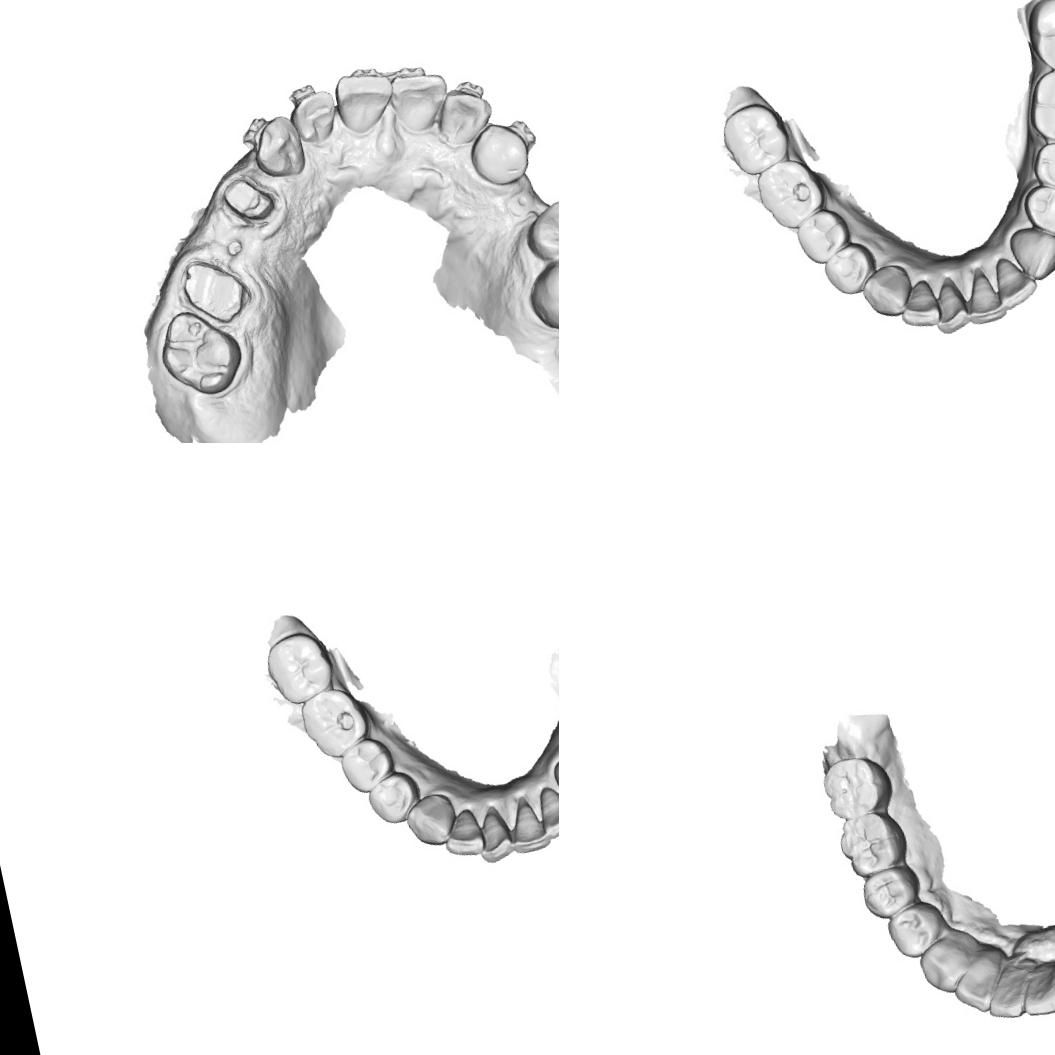canine: (912, 922, 987, 1000), (462, 116, 536, 194), (244, 110, 312, 186), (856, 258, 920, 323), (401, 787, 464, 852), (1004, 219, 1055, 286)
crown: (172, 248, 255, 334), (216, 168, 282, 230)
incisor: (328, 65, 403, 139), (384, 64, 458, 138), (945, 946, 1016, 1019), (430, 81, 500, 150), (284, 82, 345, 150), (978, 961, 1034, 1028), (960, 262, 1012, 328), (504, 792, 556, 858), (926, 275, 979, 338), (470, 804, 523, 867), (990, 250, 1041, 314), (892, 274, 946, 334), (436, 803, 490, 863), (1013, 950, 1055, 1022), (534, 779, 559, 843)
molar: (151, 300, 250, 405), (715, 94, 795, 182), (259, 623, 339, 710), (751, 153, 832, 236), (295, 682, 376, 764), (831, 802, 912, 881), (817, 749, 899, 824), (519, 241, 559, 337), (1017, 60, 1055, 154), (1019, 0, 1055, 80)
premolar: (881, 892, 955, 964), (855, 860, 928, 924), (791, 204, 857, 270), (335, 732, 401, 798), (818, 236, 883, 300), (362, 766, 427, 830), (518, 192, 559, 263), (1017, 176, 1055, 244), (1027, 135, 1055, 200)
